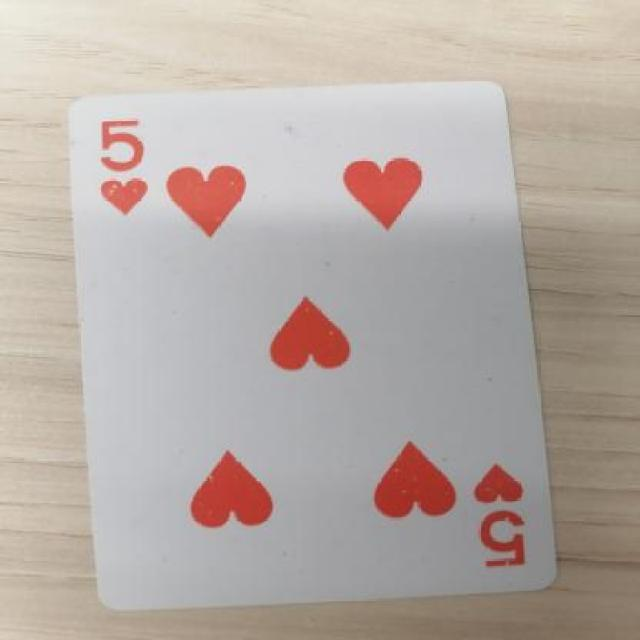5H: (436, 448, 542, 569), (85, 104, 178, 230)
